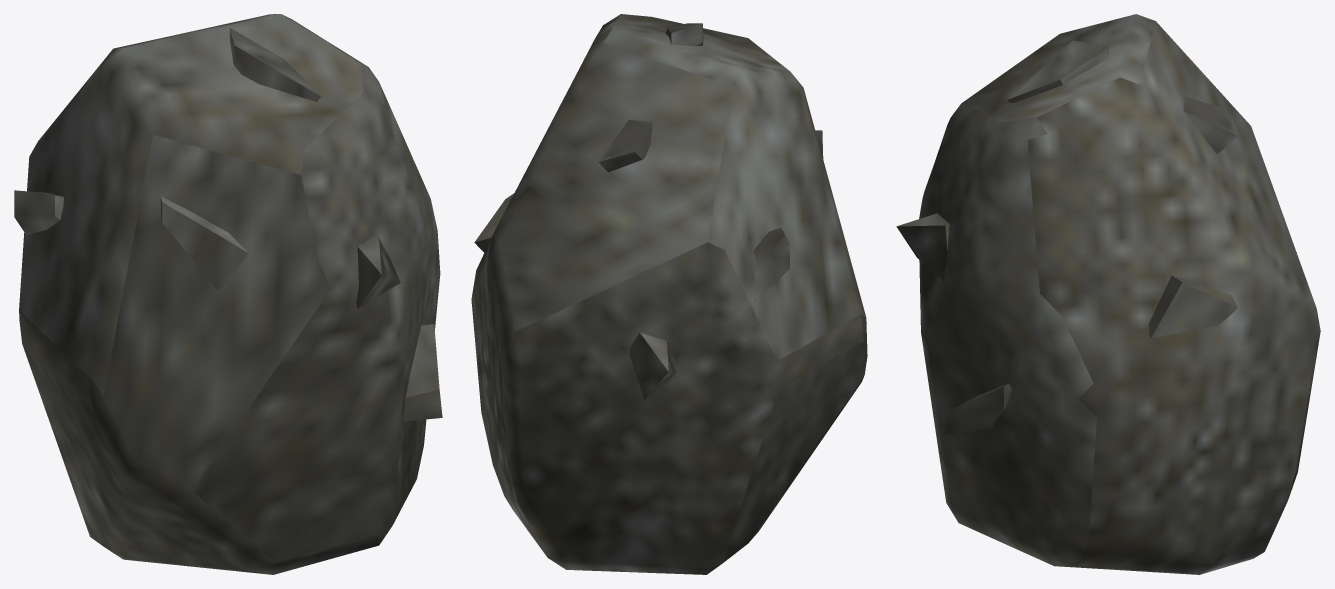
The model's file is CoalOreNew.fbx.
3 views of the same model, side by side, from view 1: azimuth 30°, elevation 25°; view 2: azimuth 150°, elevation 25°; view 3: azimuth 270°, elevation 25° (orthographic). The views are drawn at different scales.
Parts seen in each view (by area): view 1: Sphere.005; view 2: Sphere.005; view 3: Sphere.005.
Boxes of the visible parts, left/top/right/bottom form: Sphere.005: left=14, top=14, right=442, bottom=574; Sphere.005: left=471, top=14, right=867, bottom=574; Sphere.005: left=896, top=14, right=1320, bottom=574.
Size of the model in its own units: 146 by 199 by 154.
